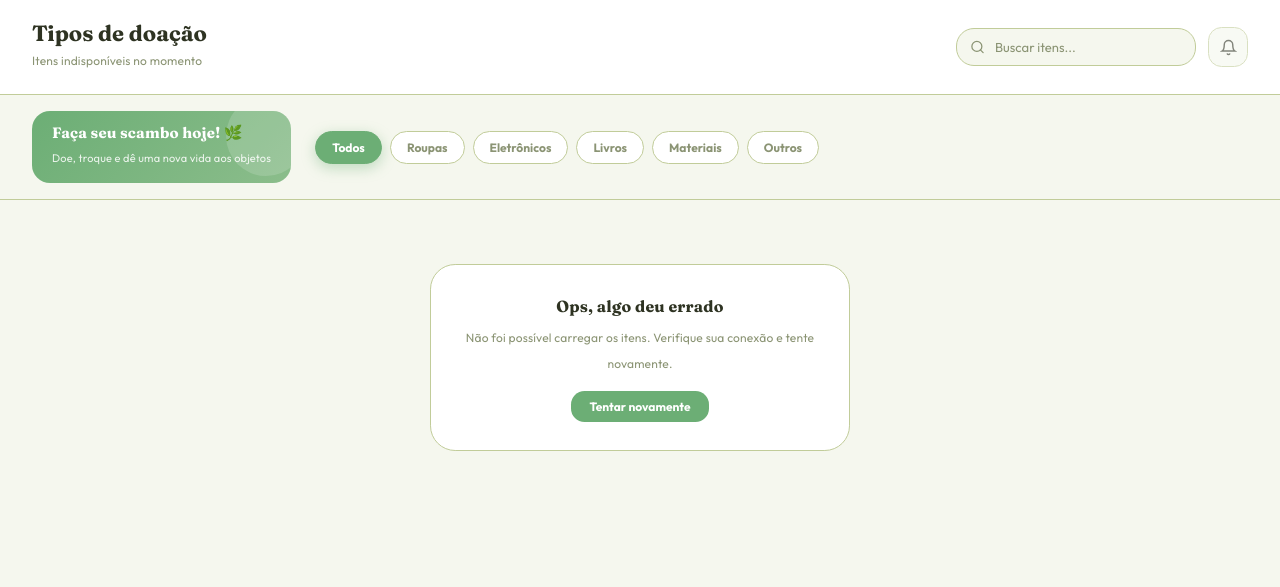
it: Tela de produtos › Deve exibir erro e permitir tentar novamente
Expected: the message is shown, [430, 264, 850, 451]
Click the button "Tentar novamente" at (640, 407), box [571, 391, 709, 422]
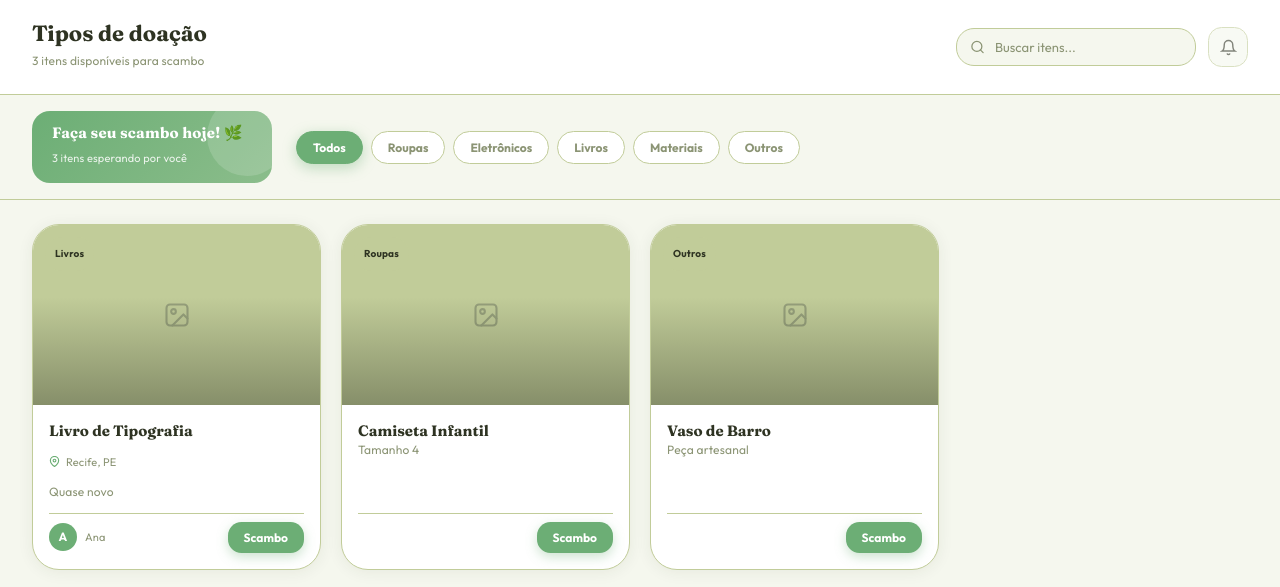
Expected: the heading "Livro de Tipografia" is shown, [49, 421, 193, 441]
